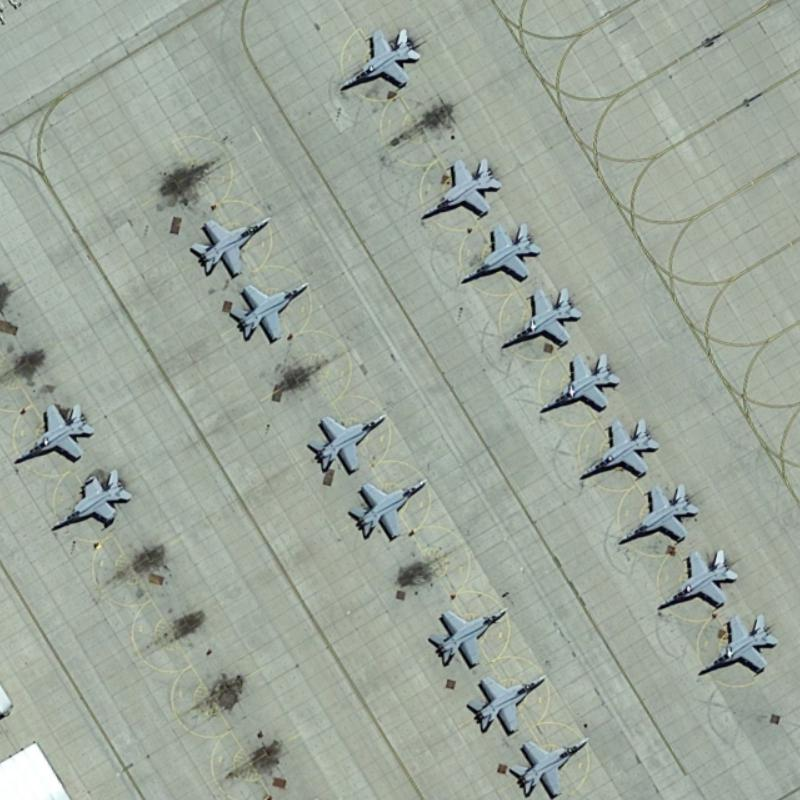A16: (691, 608, 781, 679), (224, 276, 313, 345), (333, 25, 424, 92), (421, 603, 512, 670), (182, 213, 274, 279), (535, 349, 623, 416), (304, 408, 389, 477), (462, 670, 549, 737), (455, 219, 543, 285), (652, 546, 741, 611), (495, 285, 585, 349), (47, 466, 135, 531), (574, 413, 661, 478), (504, 734, 590, 799), (418, 156, 502, 222), (615, 482, 699, 548), (11, 400, 96, 465), (343, 477, 429, 541)
